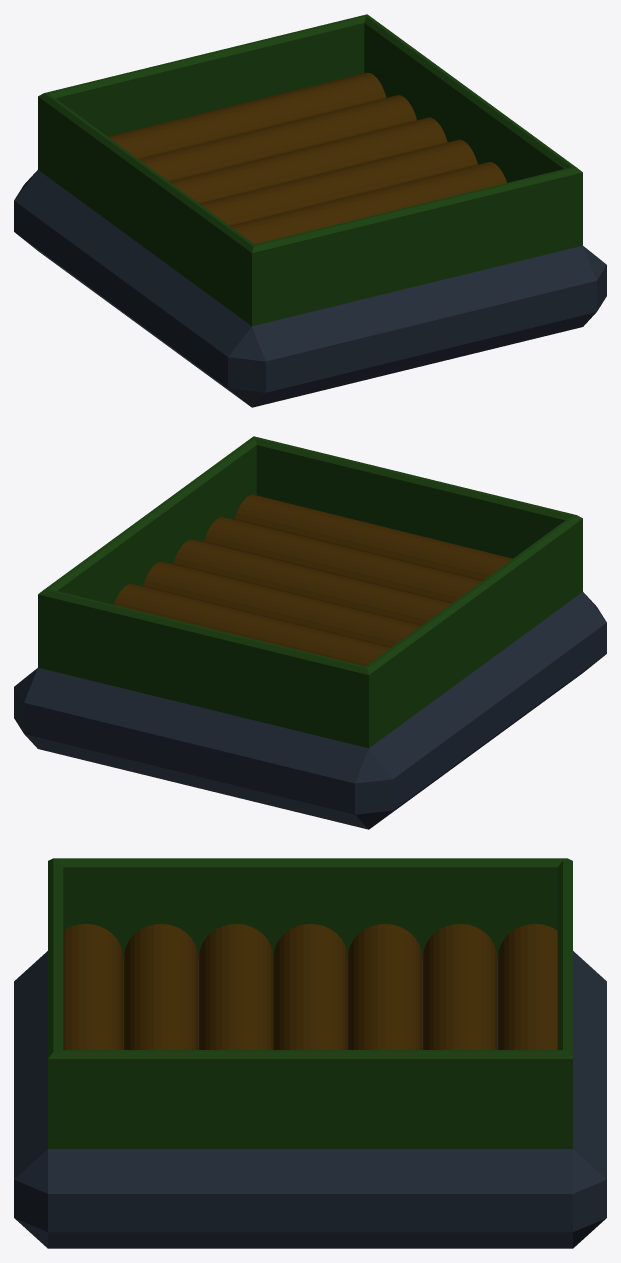
The model's file is Raft.fbx.
3 views of the same model, one above another, from view 1: azimuth 30°, elevation 25°; view 2: azimuth 150°, elevation 25°; view 3: azimuth 270°, elevation 25° (orthographic). The views are drawn at different scales.
Parts seen in each view (by area): view 1: Raft; view 2: Raft; view 3: Raft.
Part boxes in pixels (x1,y1,x2,y2): Raft: (14, 14, 606, 407); Raft: (14, 436, 606, 829); Raft: (14, 858, 606, 1248).
Size of the model in its own units: 697 by 770 by 279.
